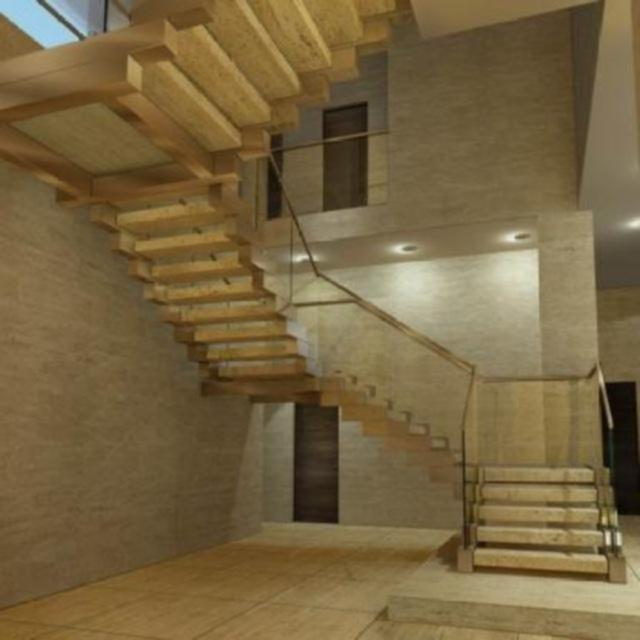stair: (127, 166, 635, 600)
